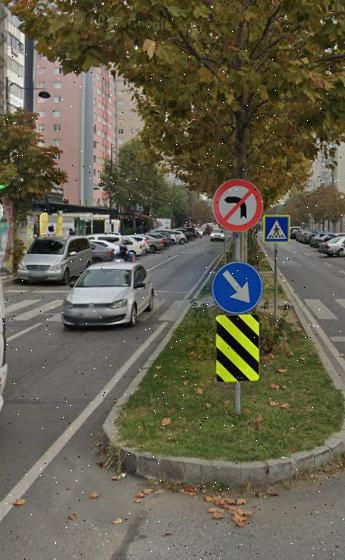leftturnsareforbidden: (213, 178, 261, 230)
